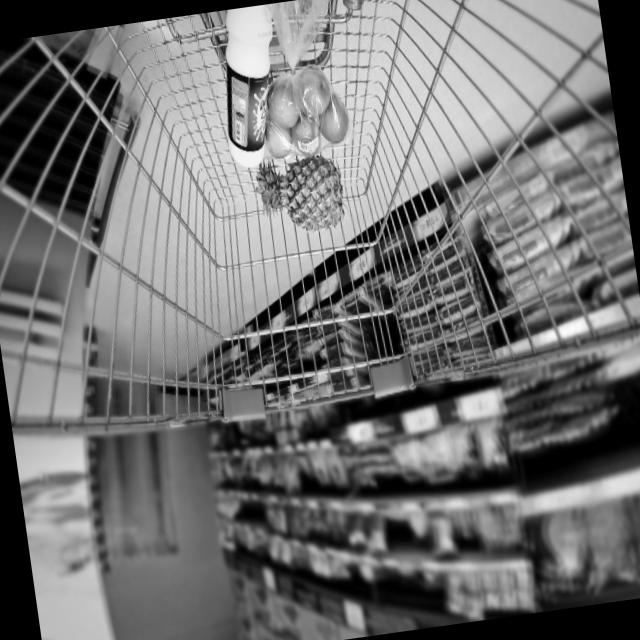dua: (250, 150, 350, 243)
sua: (212, 5, 290, 176)
tao: (252, 66, 352, 164)
